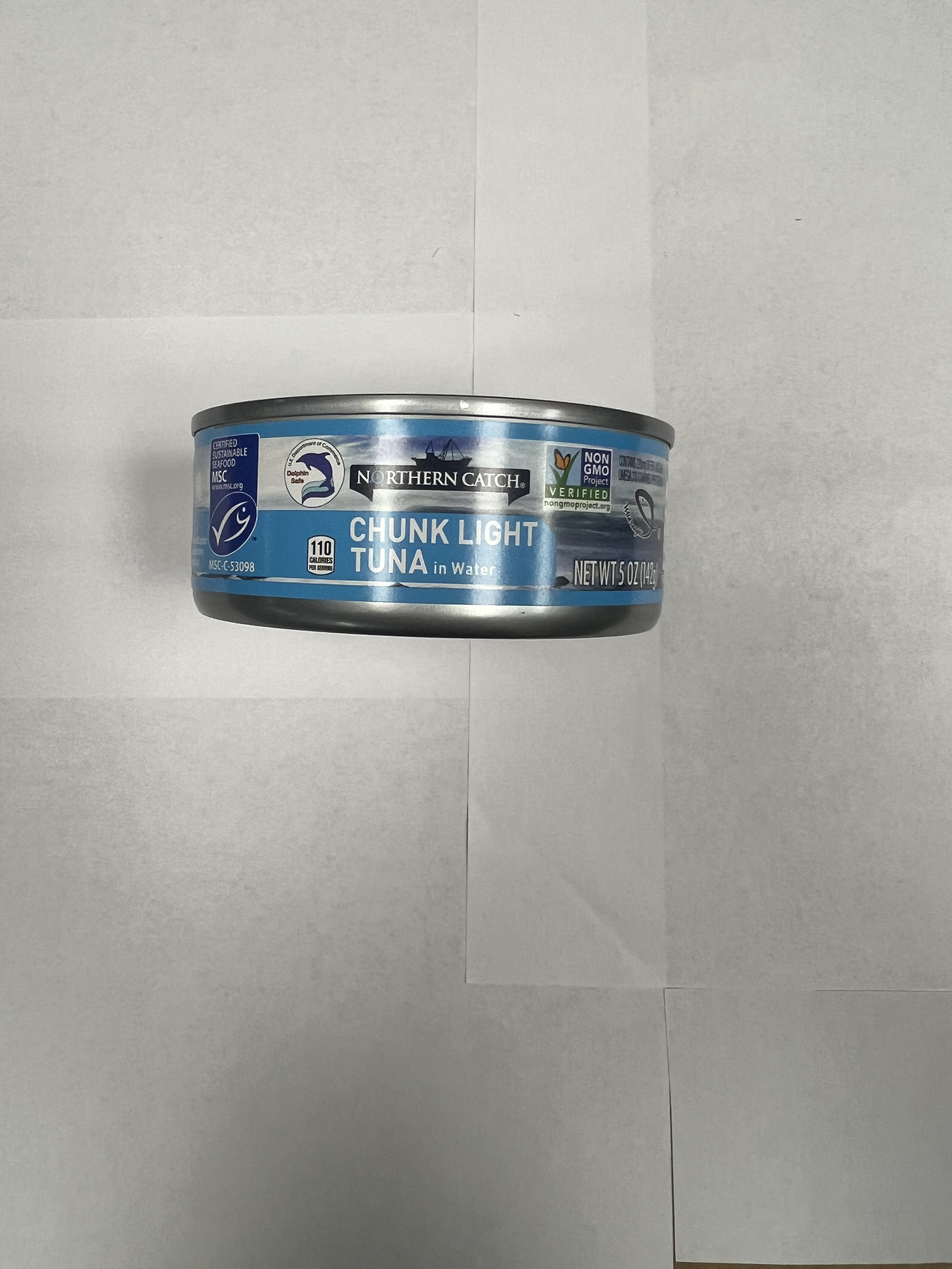packaged: (183, 380, 684, 649)
